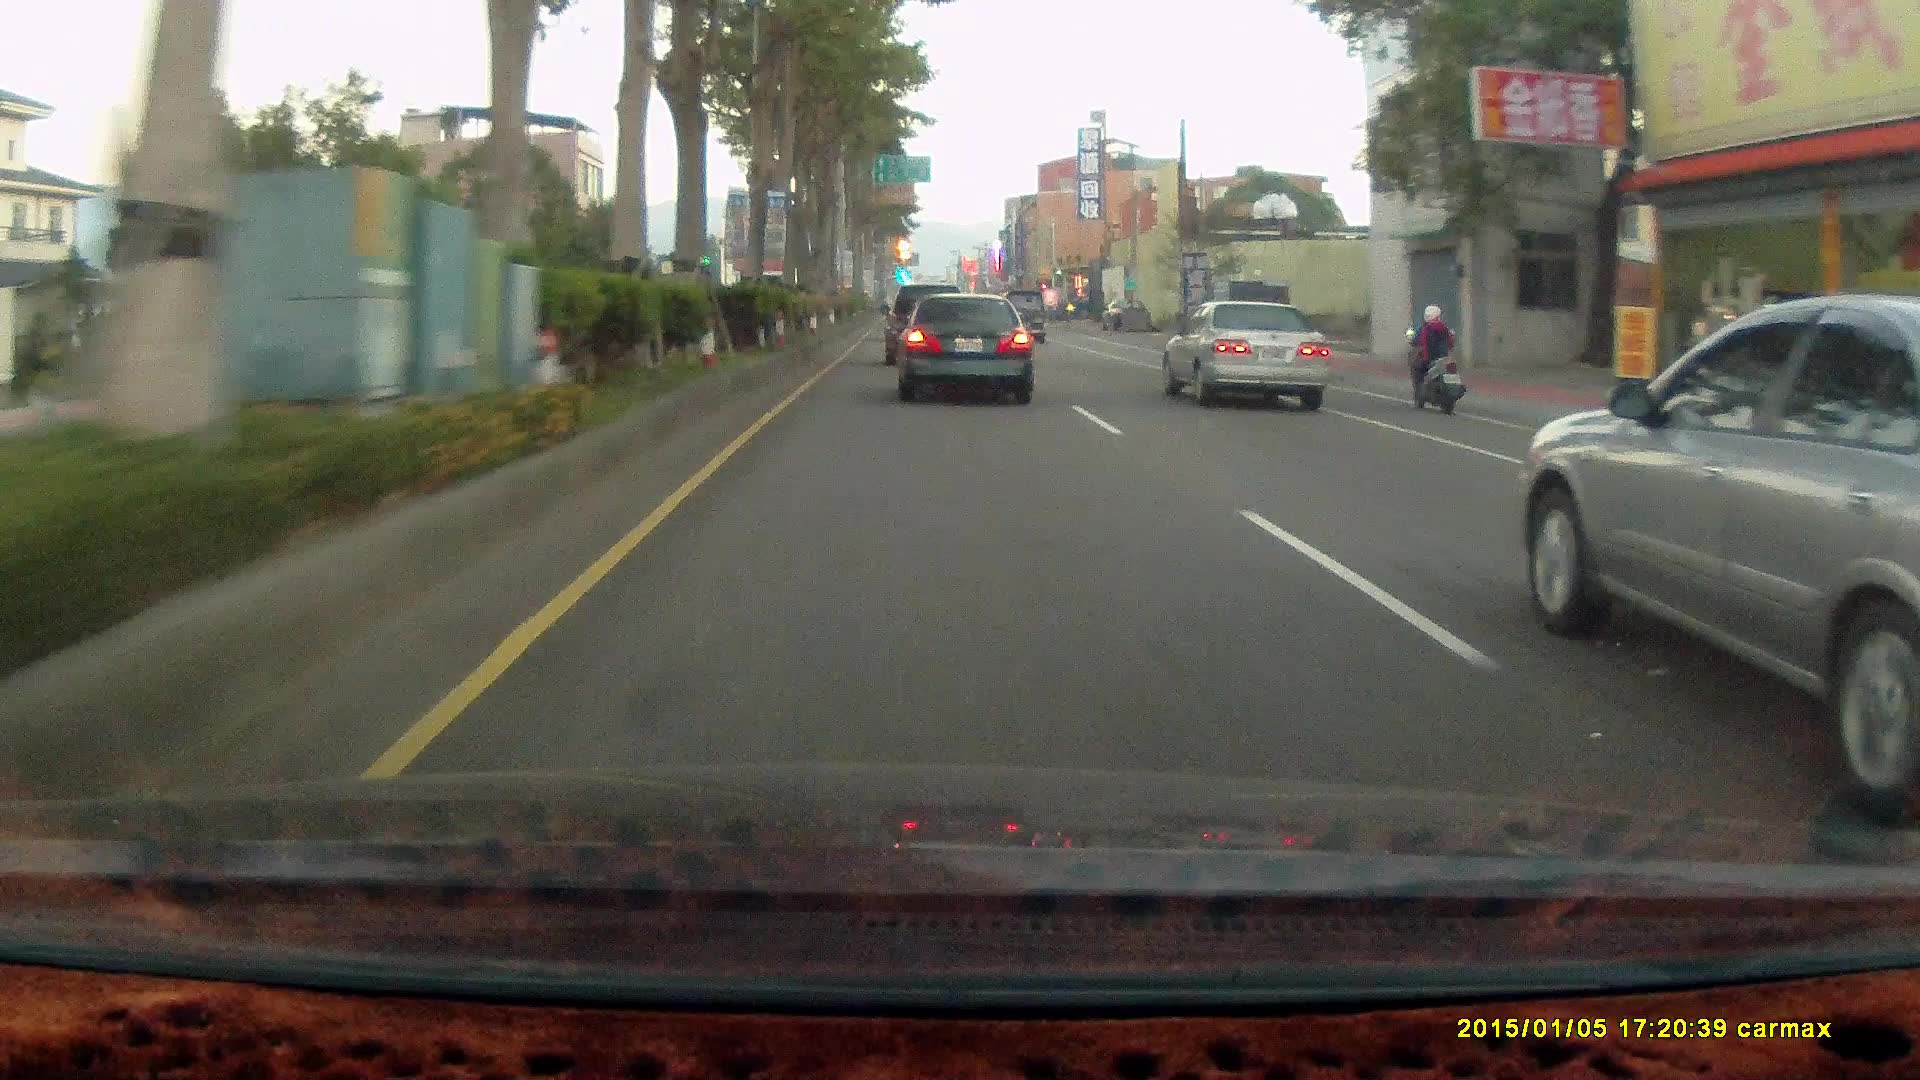rider: (1396, 295, 1474, 420), (1402, 291, 1467, 406)
vehicle: (1515, 291, 1920, 828), (1160, 297, 1331, 412), (1170, 299, 1330, 402), (896, 290, 1036, 402), (897, 289, 1036, 400), (885, 282, 973, 365), (882, 280, 964, 360), (1205, 279, 1290, 356), (999, 289, 1046, 344)
